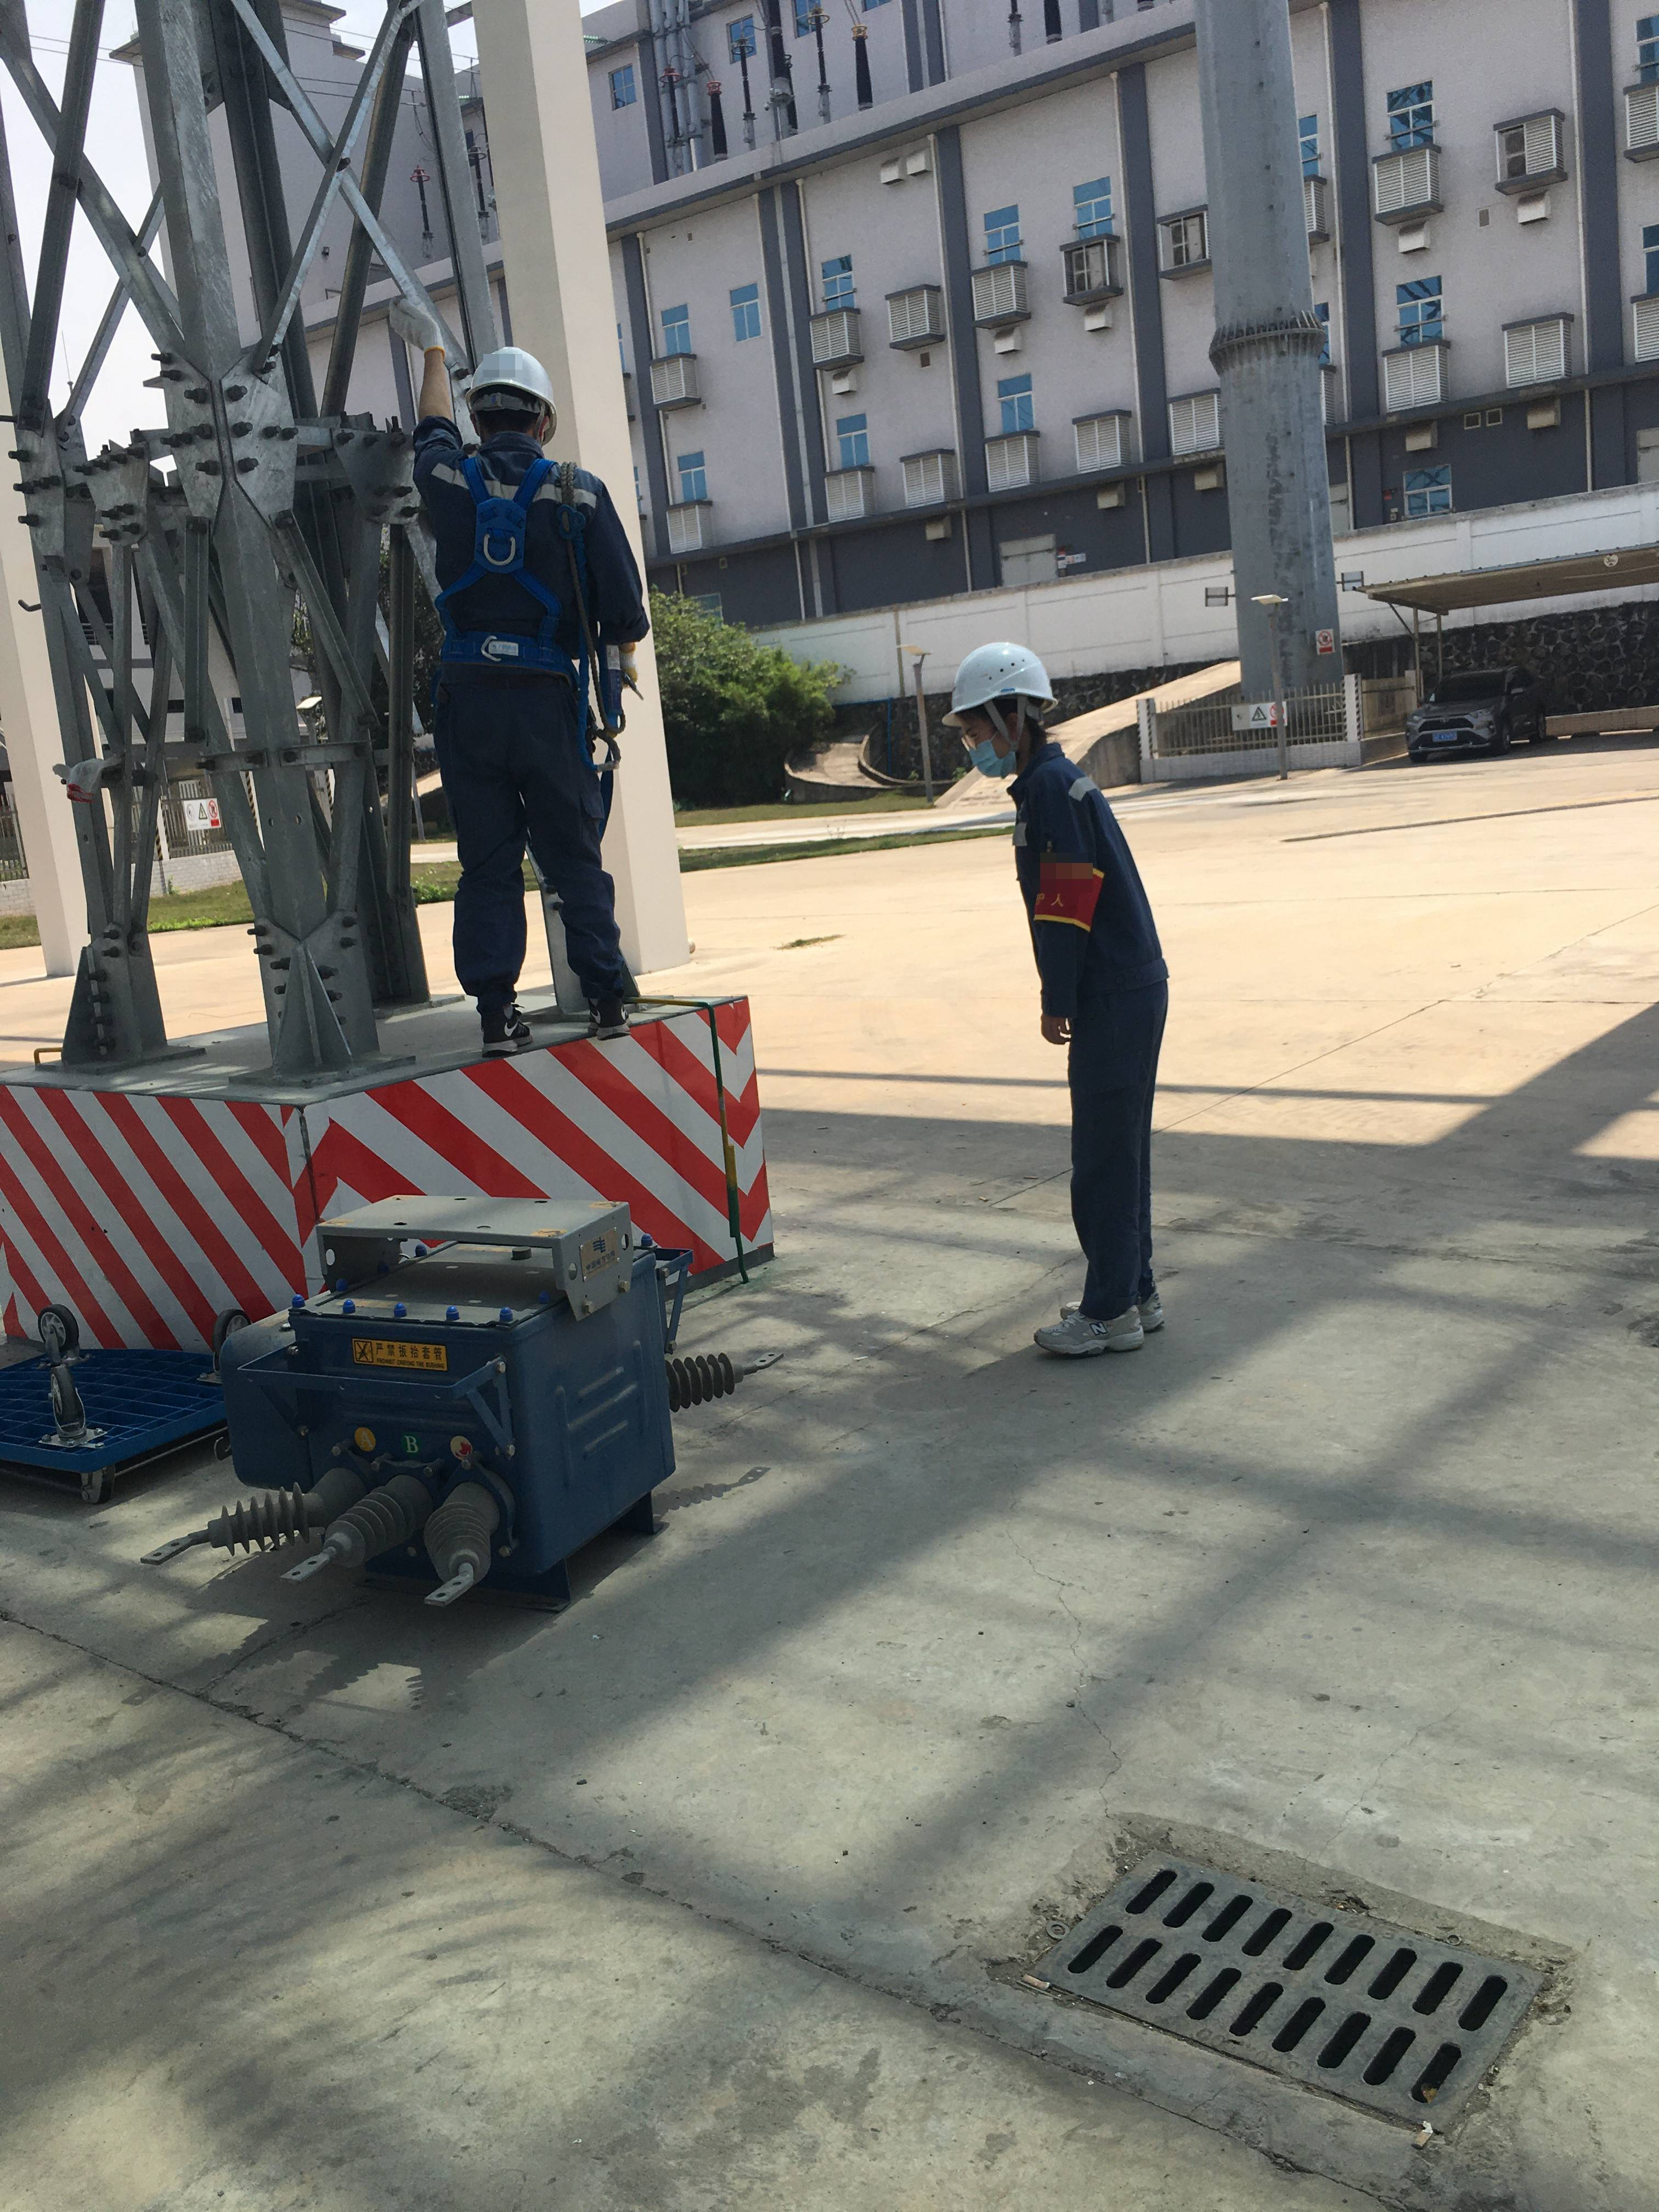downsuit: (415, 691, 645, 991), (1063, 1031, 1175, 1305)
upsuit: (394, 432, 653, 678), (986, 765, 1173, 1021)
wrongtop: (413, 354, 460, 470)
